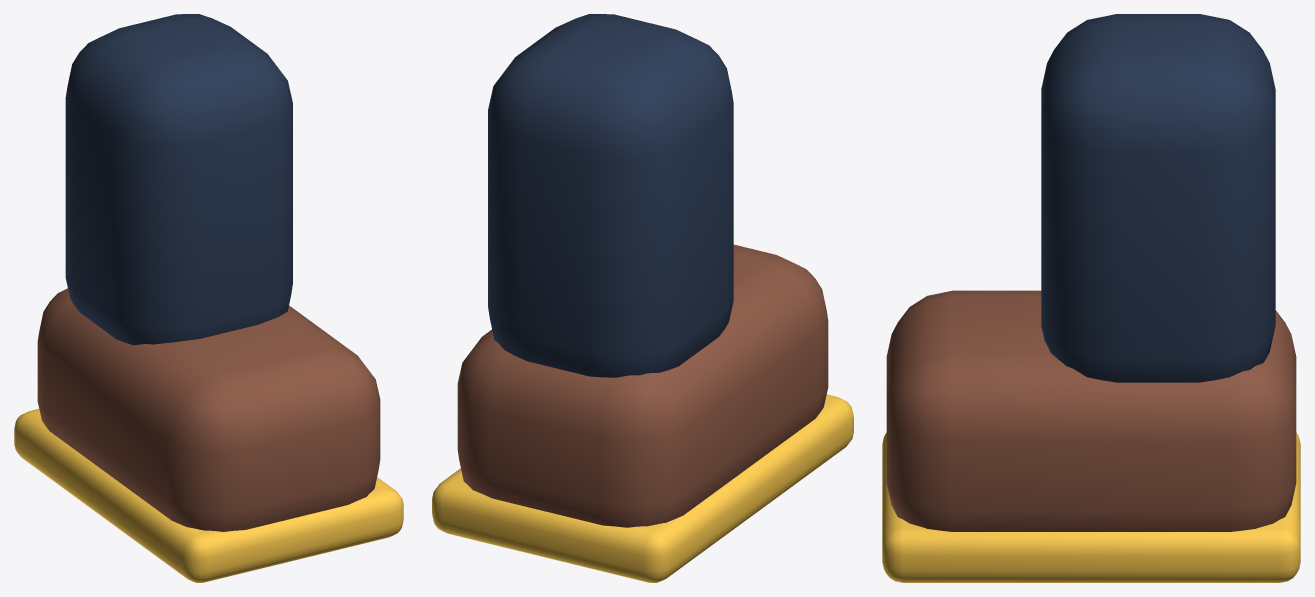
The model's file is hero_leg_l.glb.
The picture shows the model from 3 angles, left to right: view 1: azimuth 30°, elevation 25°; view 2: azimuth 150°, elevation 25°; view 3: azimuth 270°, elevation 25°; orthographic projection. The views are drawn at different scales.
Visible parts, largest first — view 1: hero leg_l; view 2: hero leg_l; view 3: hero leg_l.
Boxes of the visible parts, x1,y1,x2,y2 form: hero leg_l: (14,14,403,582); hero leg_l: (432,14,853,582); hero leg_l: (882,14,1300,582).
Bounding box in the file's own units: 0.34 × 0.65 × 0.5.
